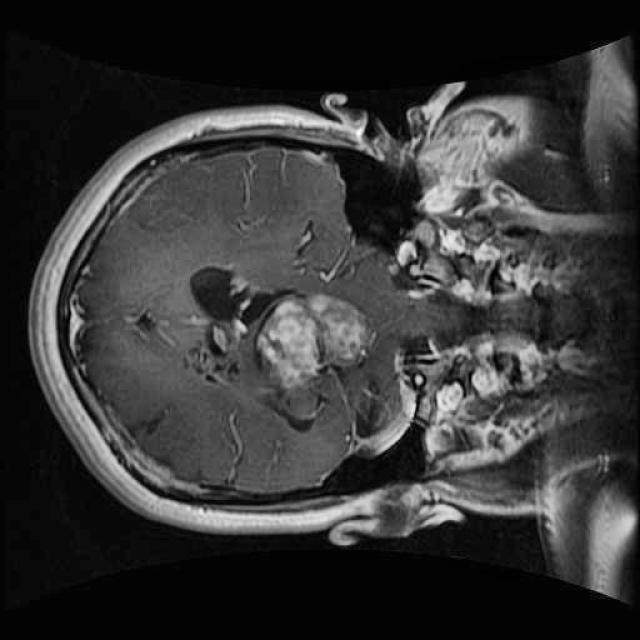Tumor: (246, 280, 386, 399)
